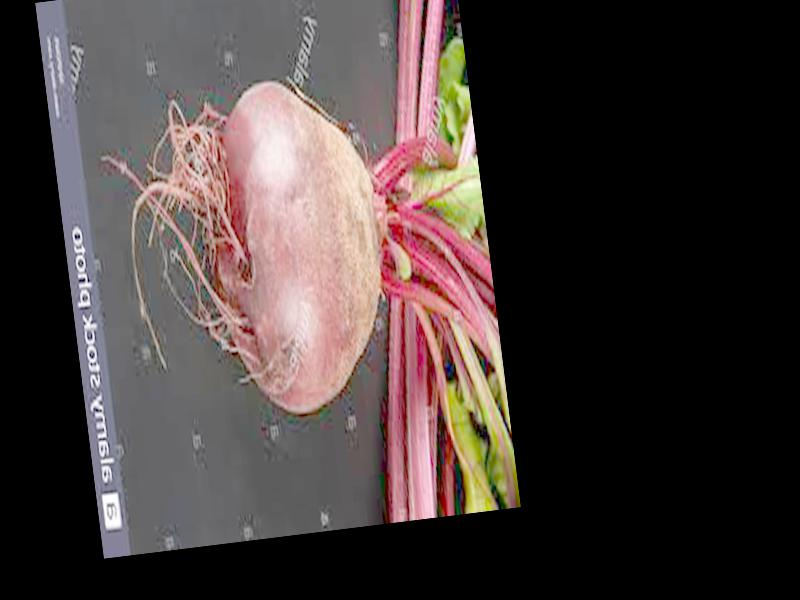Beet: (95, 54, 518, 549)
